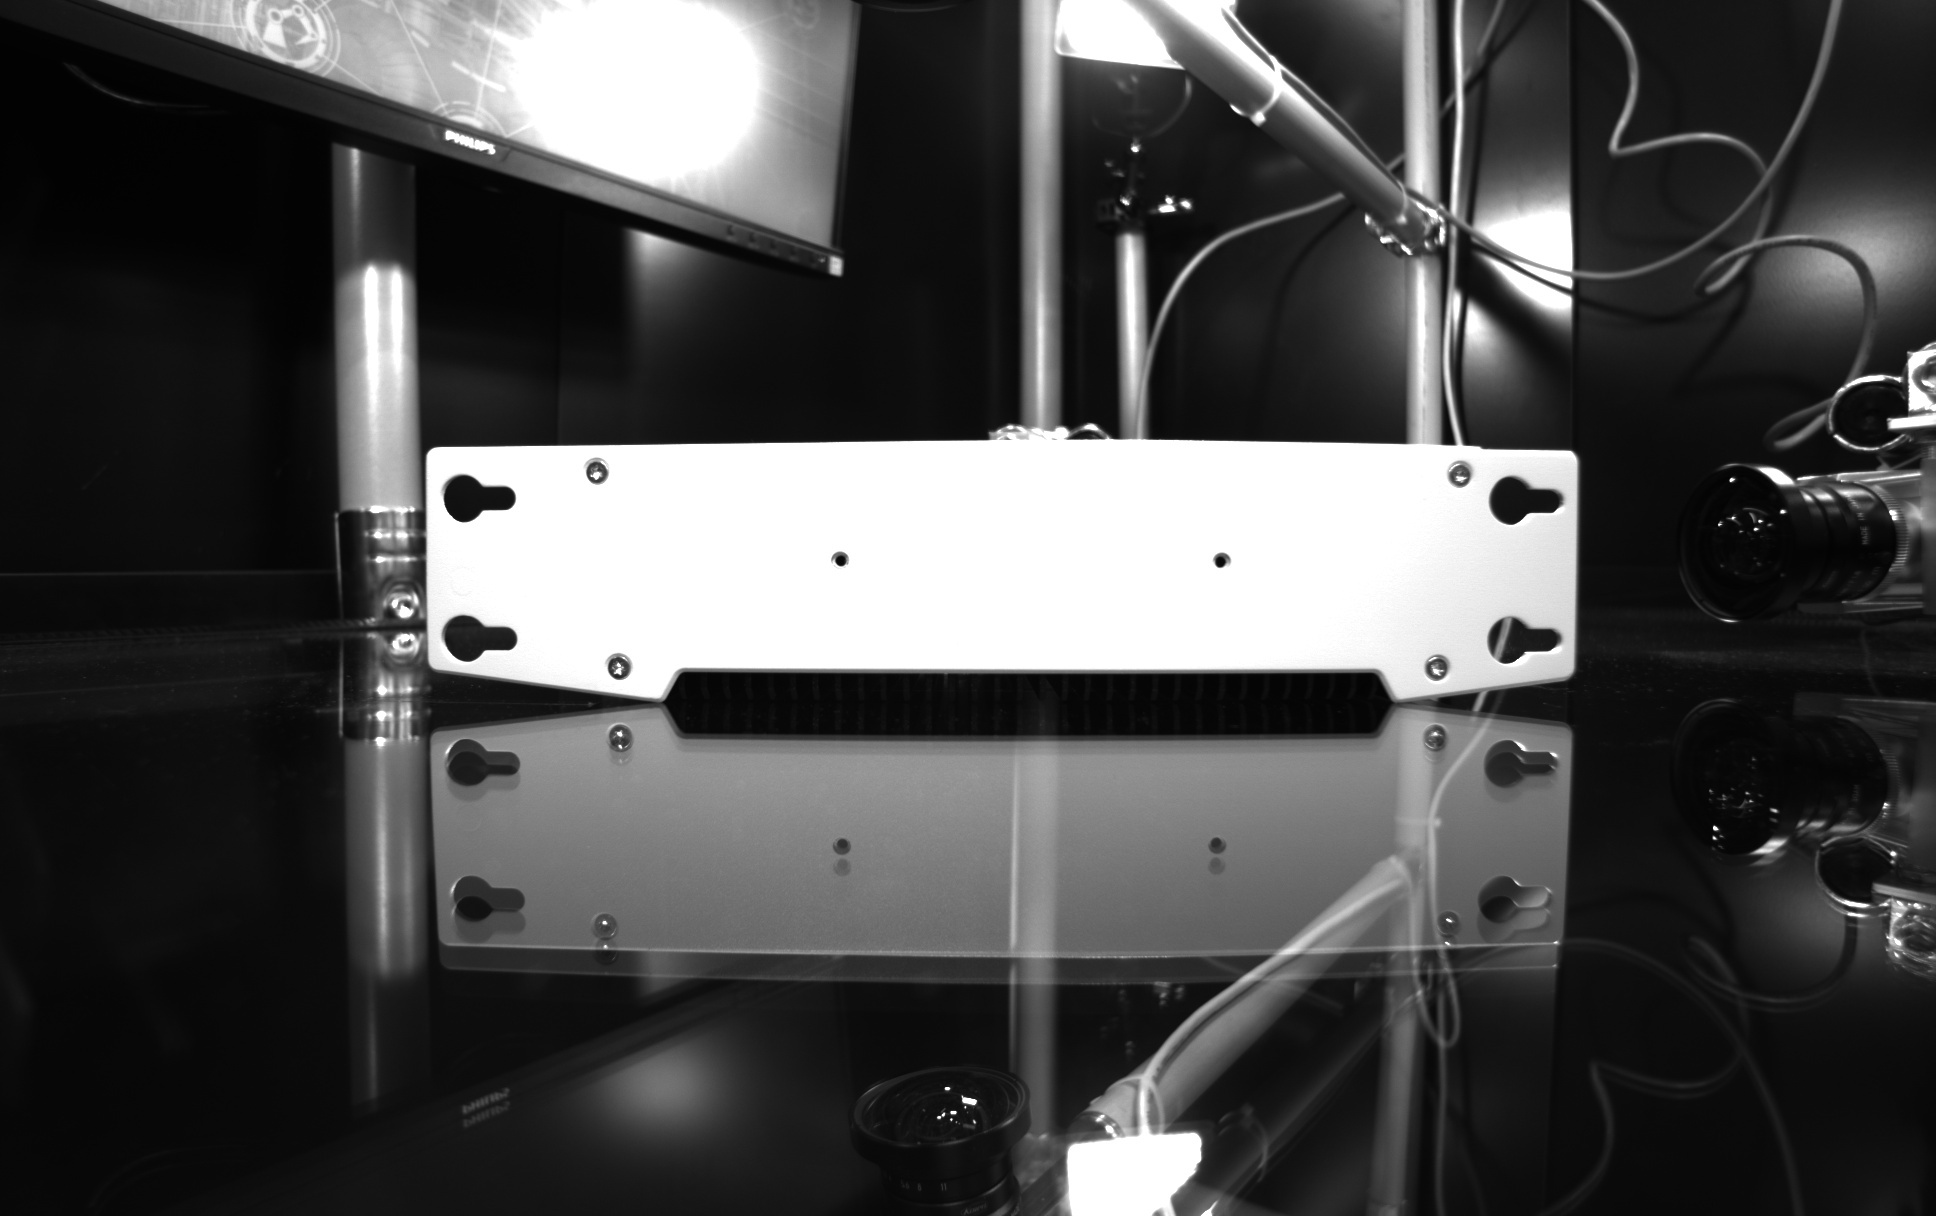CamBack: (395, 415, 1603, 706)
Schraube: (577, 452, 616, 493), (1418, 649, 1457, 689), (600, 644, 637, 685), (1441, 454, 1479, 495)
Schraube_gespiegelt: (581, 906, 623, 972), (595, 719, 640, 775), (1411, 719, 1457, 772), (1429, 905, 1464, 965)
